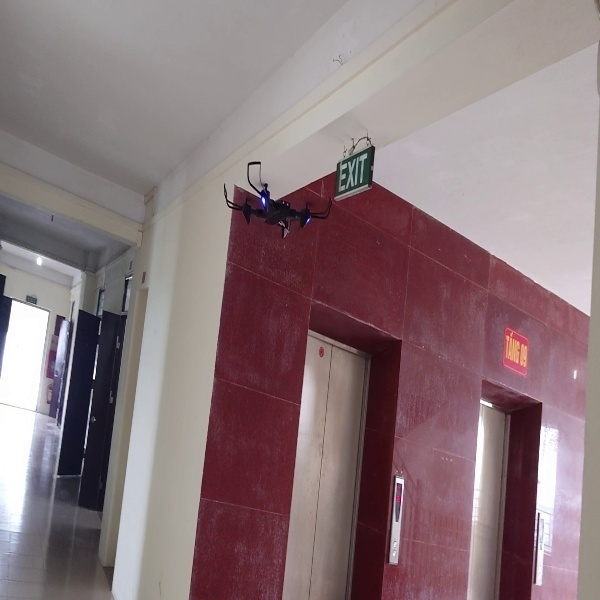drone: (219, 156, 333, 239)
